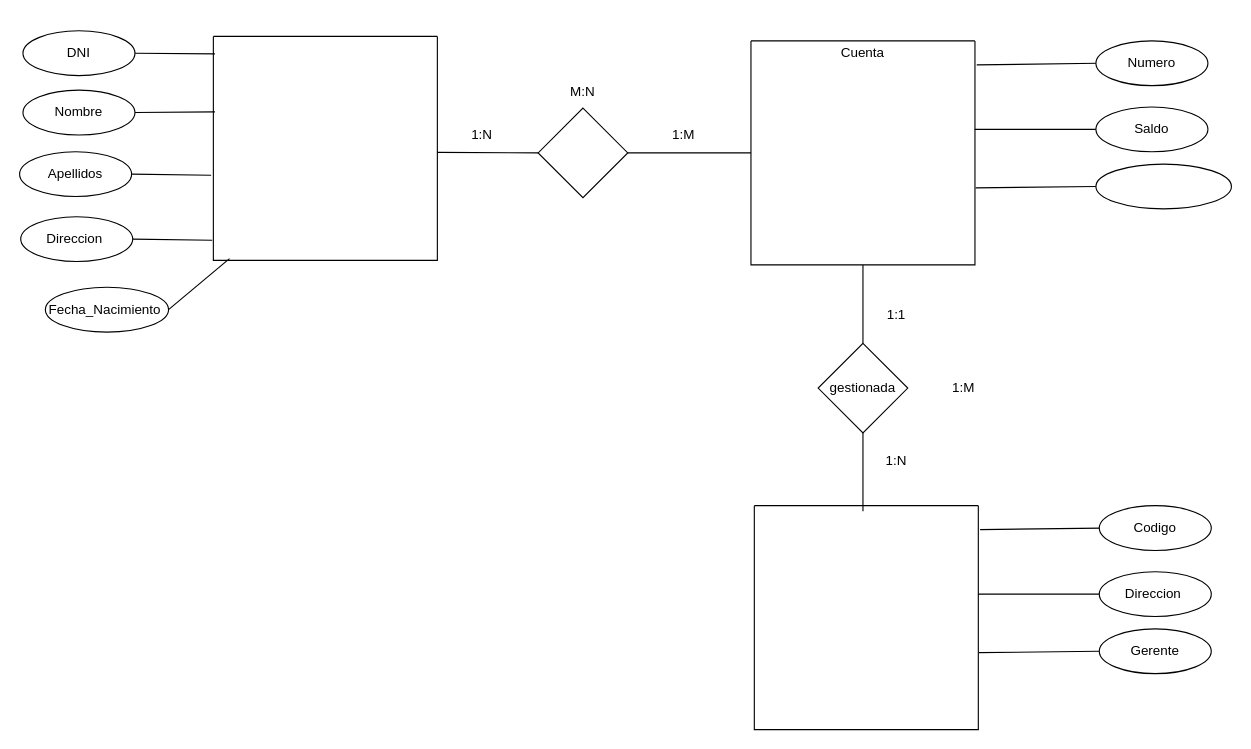
Image size: 1251x749. Some labels were removed from this diagram. Here are the shapes that lost their labels. From the top down, the centre of each, then its label:
At point (324, 147): "Cliente".
At point (582, 152): "tiene".
At point (1163, 186): "Tipo".
At point (865, 617): "Sucursal".
